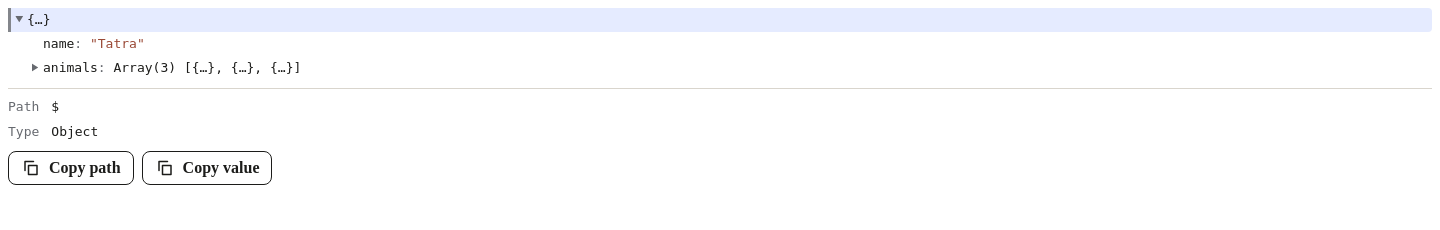
it: ObjectInspector contract › details › does not bring the confirmation back when the row is selected again
Later steps or results of the test are not shown.
Click the list item "name: \"Tatra\"" at (94, 43), box [43, 36, 145, 51]
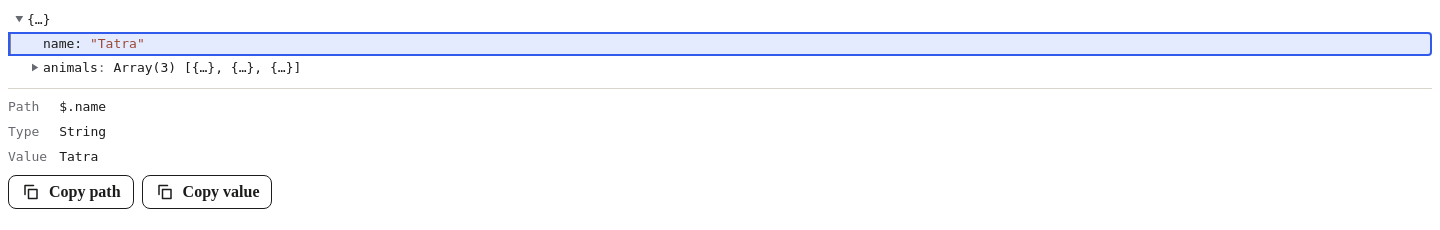
Click the button "Copy path" at (71, 192), box [8, 175, 134, 209]
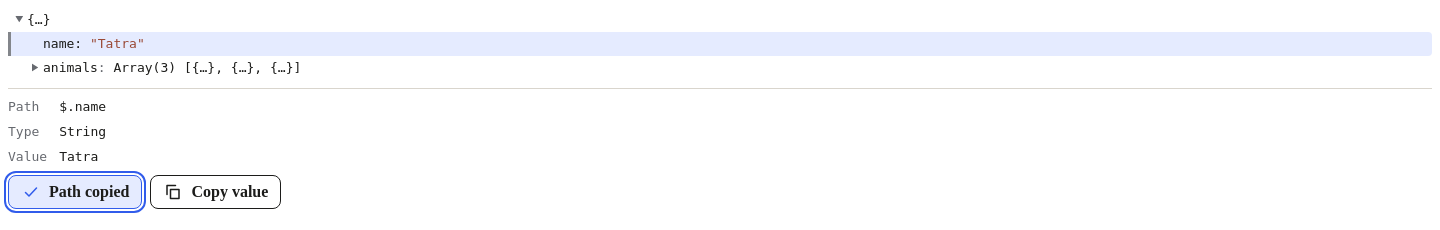
Result: the text "Path copied" is shown at [49, 182, 130, 202]
